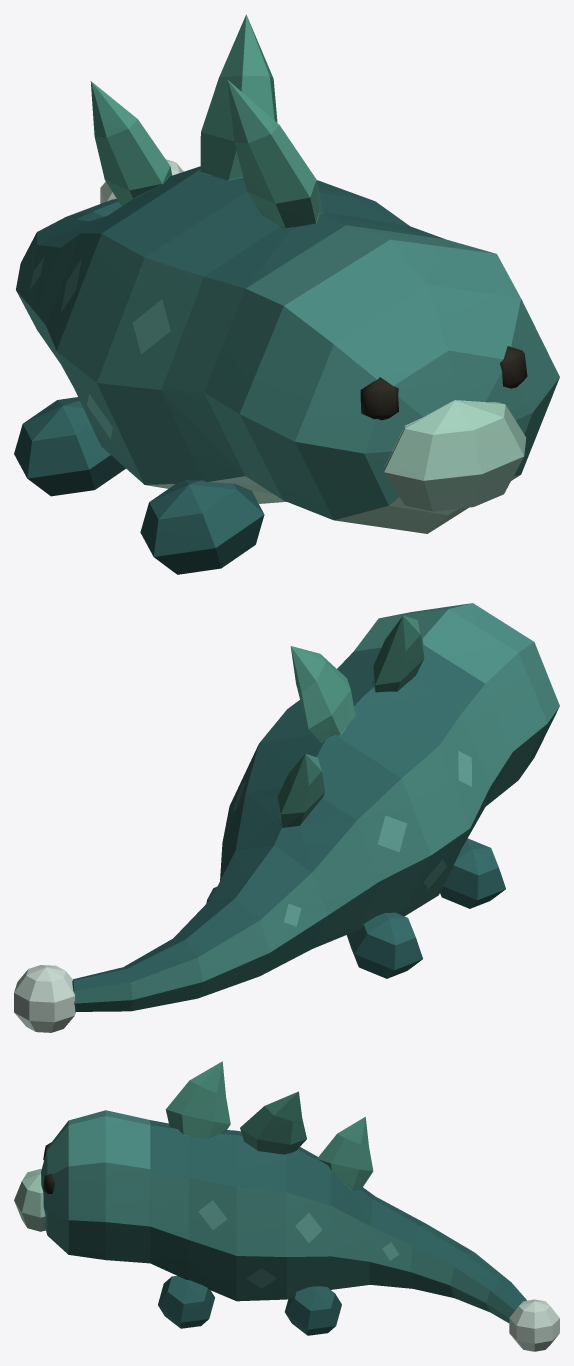
The model's file is Leviathan_Lizard.glb.
3 renders of one model, top to bottom at view 1: azimuth 30°, elevation 25°; view 2: azimuth 150°, elevation 25°; view 3: azimuth 270°, elevation 25°, orthographic. The views are drawn at different scales.
Parts seen in each view (by area): view 1: Hunt_Leviathan_Lizard; view 2: Hunt_Leviathan_Lizard; view 3: Hunt_Leviathan_Lizard.
Part boxes in pixels (x1,y1,x2,y2): Hunt_Leviathan_Lizard: (14, 14, 559, 574); Hunt_Leviathan_Lizard: (14, 603, 559, 1032); Hunt_Leviathan_Lizard: (14, 1061, 559, 1351).
Bounding box in the file's own units: 0.4094 × 0.4593 × 0.9811.
